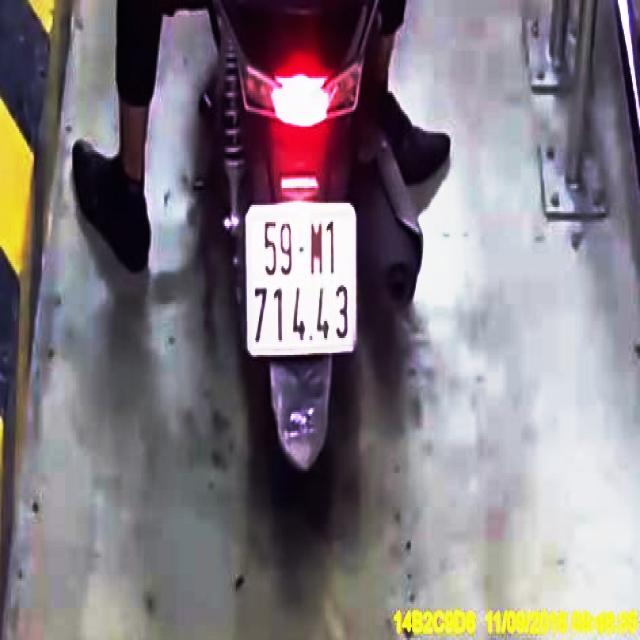license_plate: (247, 206, 355, 353)
